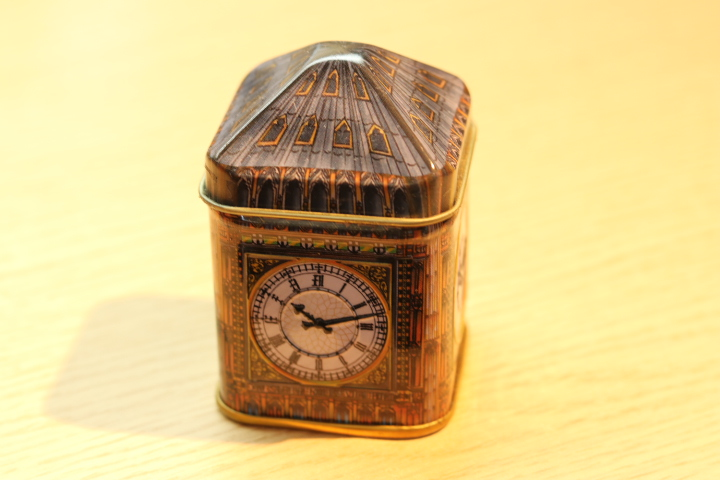Big Ben: (174, 27, 504, 446)
